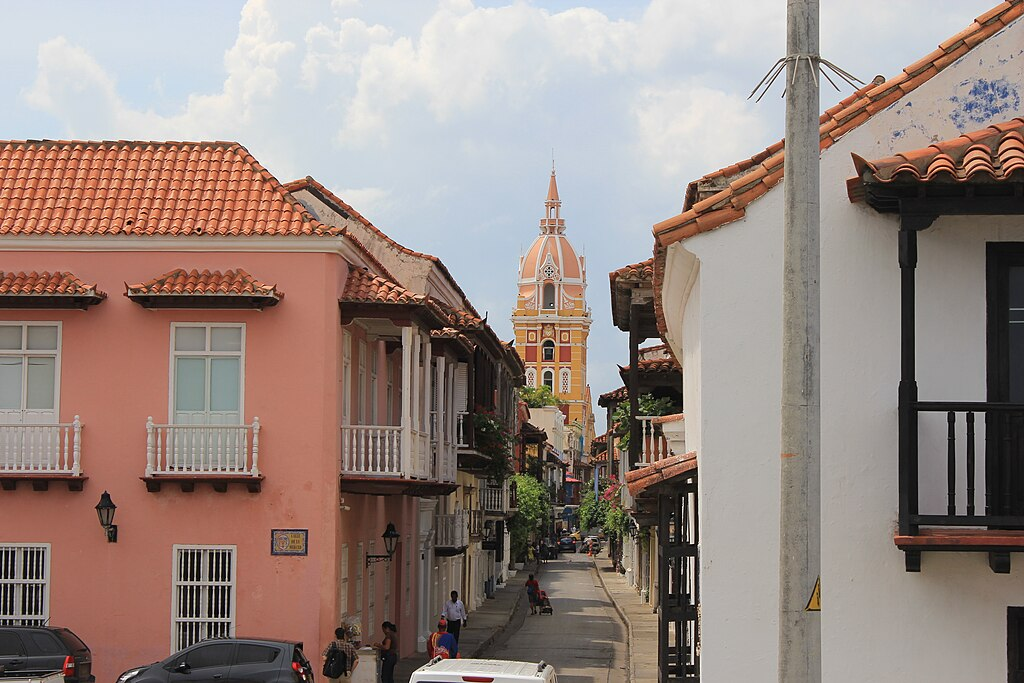House: (638, 23, 1024, 683), (5, 133, 418, 670)
